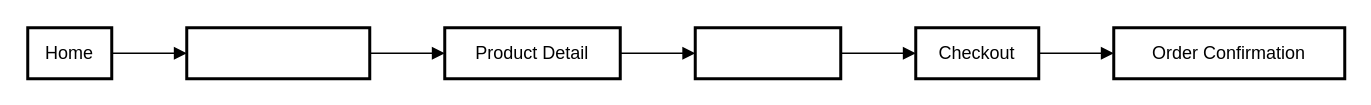
Image size: 1371x105. Some labels were removed from this diagram. Here are the shapes that lost their labels. From the top down, the centre of each, then its label:
point 277,53: Product Listing
point 767,53: Add to Cart
